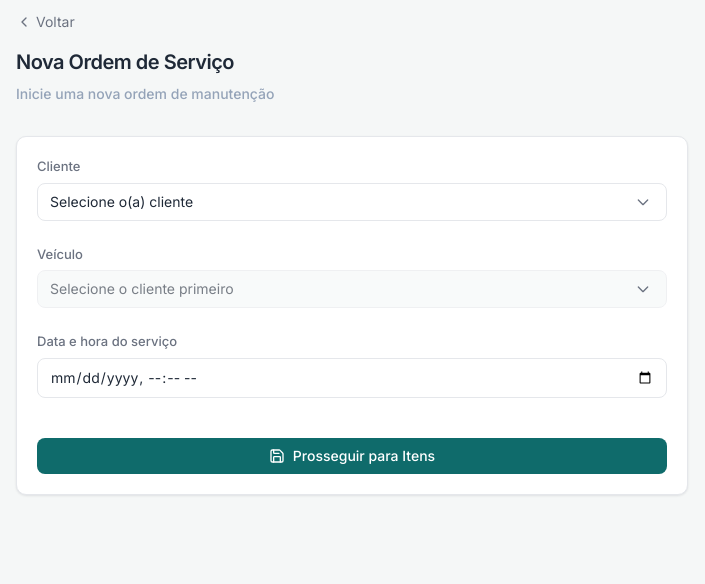
Test case: <OrderCreate> — orçamento base › sem orçamento pendente, mostra o aviso e mantém o fluxo do zero
The width and height of the screenshot is (705, 584).
Select "5" in the dropdown below "Cliente" at (352, 202), box top-left (37, 182), bottom-right (667, 220)
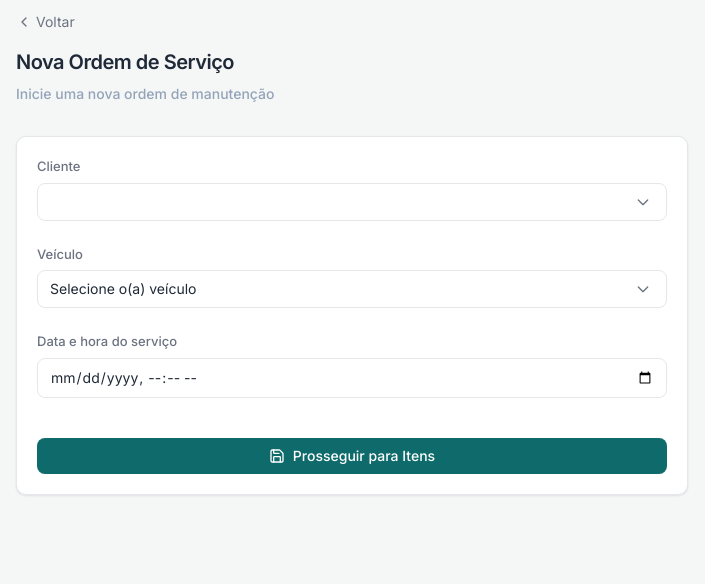
Select "VW Gol (ABC1D23)" in the dropdown below "Veículo" at (352, 289), box top-left (37, 270), bottom-right (667, 308)
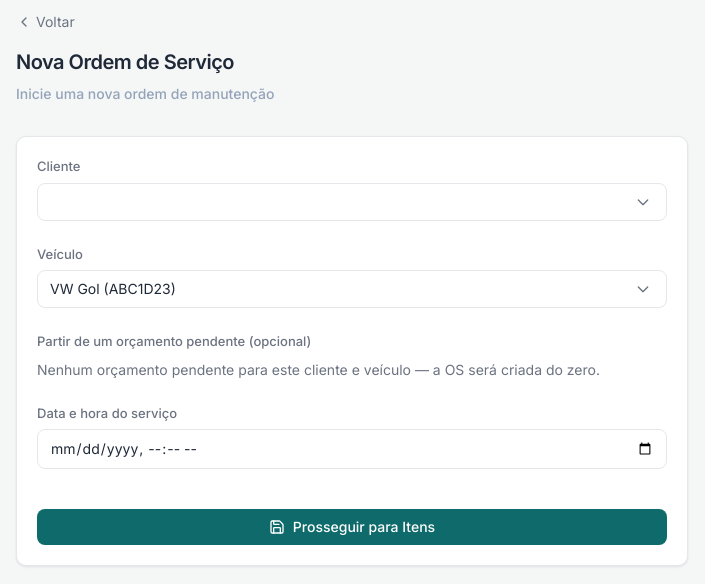
expect the button "Prosseguir para Itens" is shown: met, box top-left (37, 509), bottom-right (667, 545)
expect the text "Nenhum orçamento pendente" is shown: met, box top-left (37, 360), bottom-right (600, 378)
